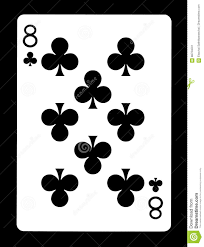eigth of clubs: (16, 13, 172, 232)
